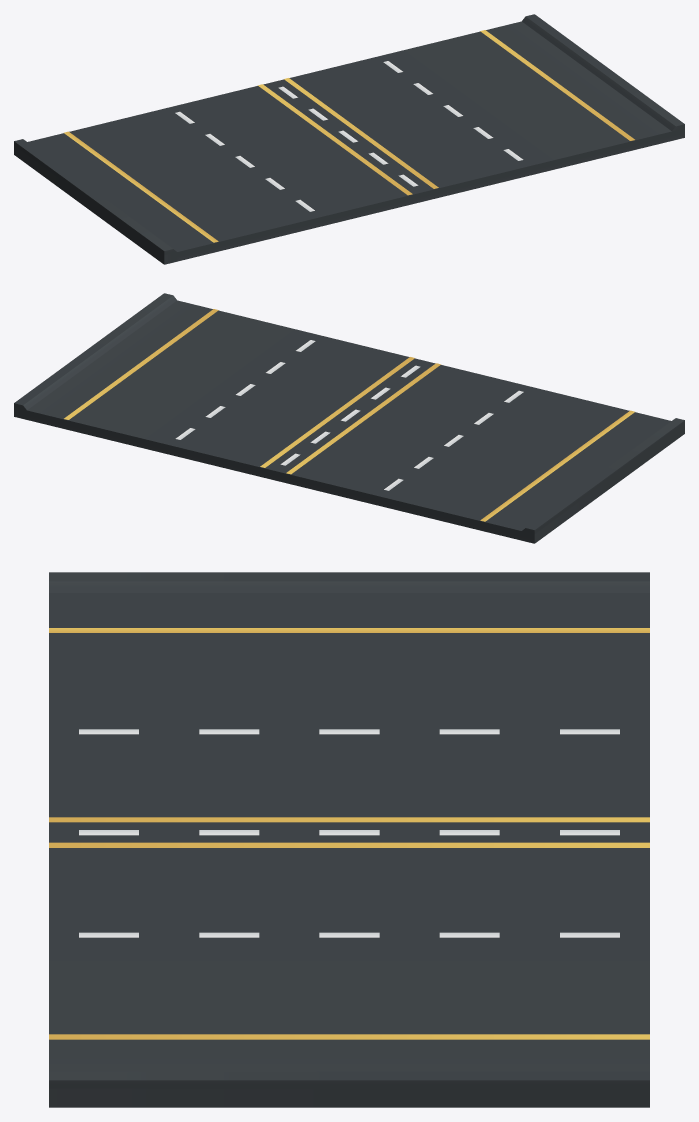
File: road.glb
The picture shows the model from 3 angles, top to bottom: view 1: azimuth 30°, elevation 25°; view 2: azimuth 150°, elevation 25°; view 3: azimuth 270°, elevation 25°; orthographic projection. The views are drawn at different scales.
Visible parts, largest first — view 1: road_straight; view 2: road_straight; view 3: road_straight.
Boxes of the visible parts, x1,y1,x2,y2 form: road_straight: (14,14,684,264); road_straight: (14,293,684,543); road_straight: (49,572,649,1107).
Size of the model in its own units: 4 by 0.1 by 2.
1 material, 1 textured.
